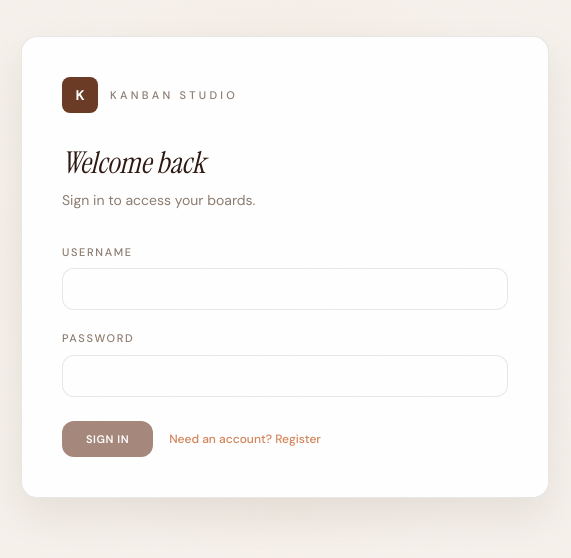
Test case: Home auth flow › shows error on invalid credentials
This screenshot has width=571, height=558.
In the field labelled "Username": (285, 289) left=62, top=268, right=508, bottom=310, type "user"
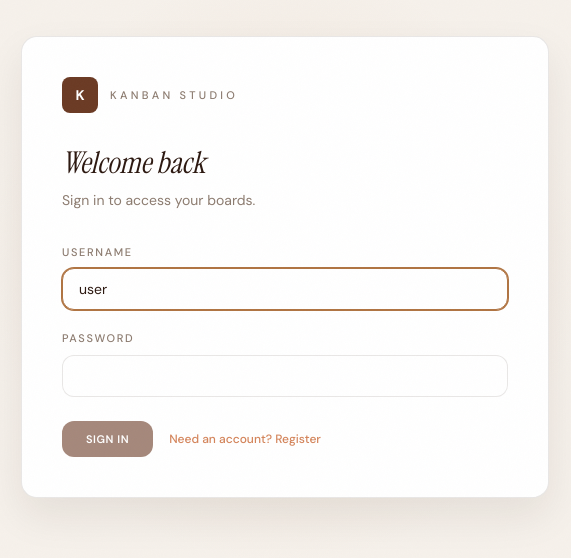
In the password field labelled "Password": (285, 376) left=62, top=355, right=508, bottom=397, type "wrong"
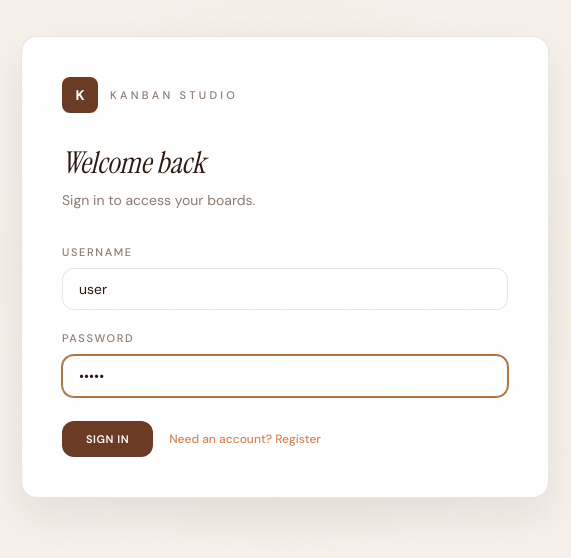
Click the button "Sign in": (108, 439) left=62, top=421, right=153, bottom=457
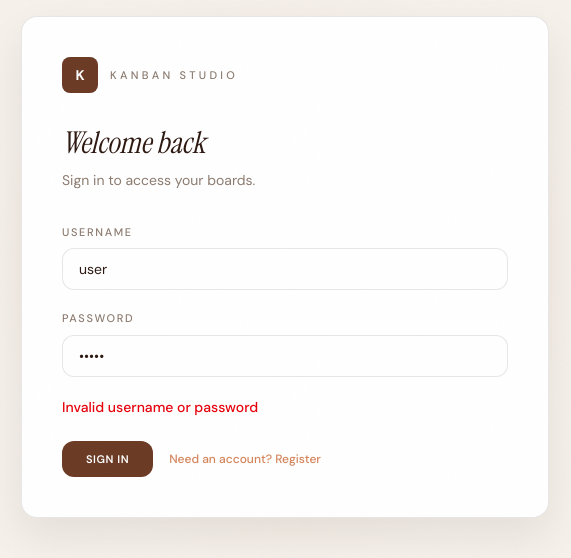
Result: the message reads "Invalid username or password" at left=62, top=398, right=258, bottom=416
